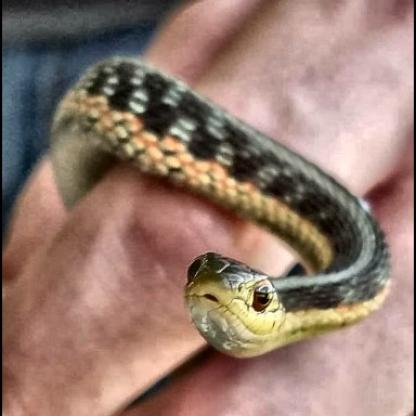Snake: (37, 36, 396, 374)
